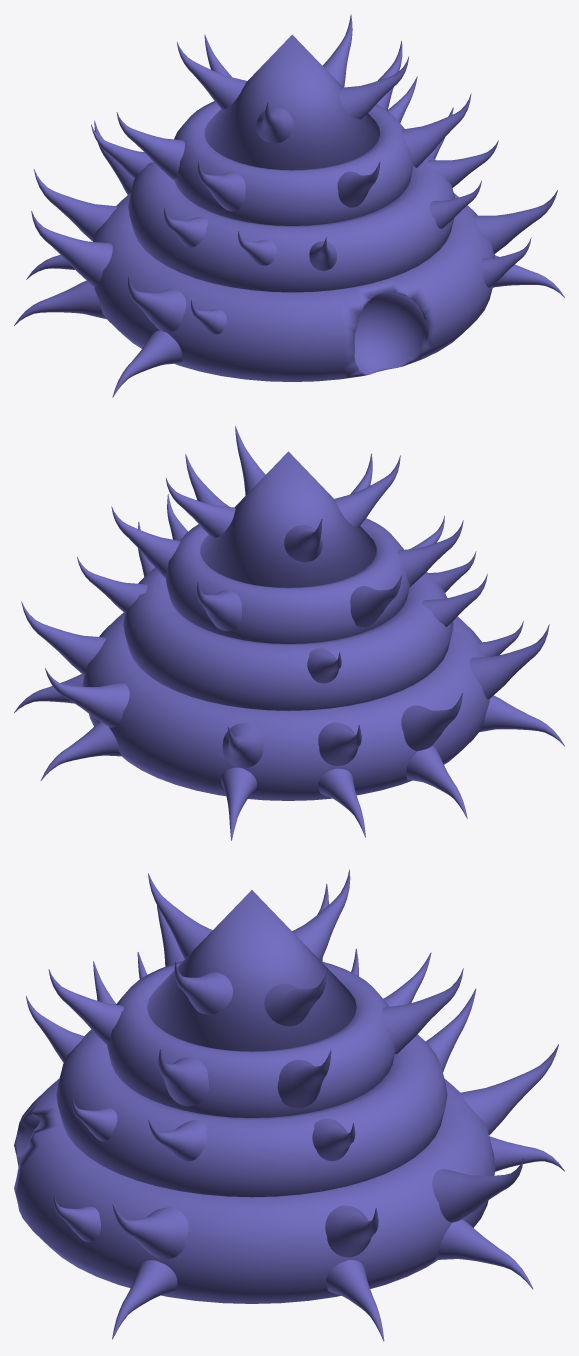
File: Shell-divermon lake.fbx
The picture shows the model from 3 angles, top to bottom: view 1: azimuth 30°, elevation 25°; view 2: azimuth 150°, elevation 25°; view 3: azimuth 270°, elevation 25°; orthographic projection. The views are drawn at different scales.
Visible parts, largest first — view 1: Torus.023; view 2: Torus.023; view 3: Torus.023.
Part boxes in pixels (bbox=[...]): Torus.023: bbox=[14, 14, 564, 397]; Torus.023: bbox=[14, 426, 564, 840]; Torus.023: bbox=[14, 869, 564, 1341].
Size of the model in its own units: 0.0314 by 0.0186 by 0.0282.
